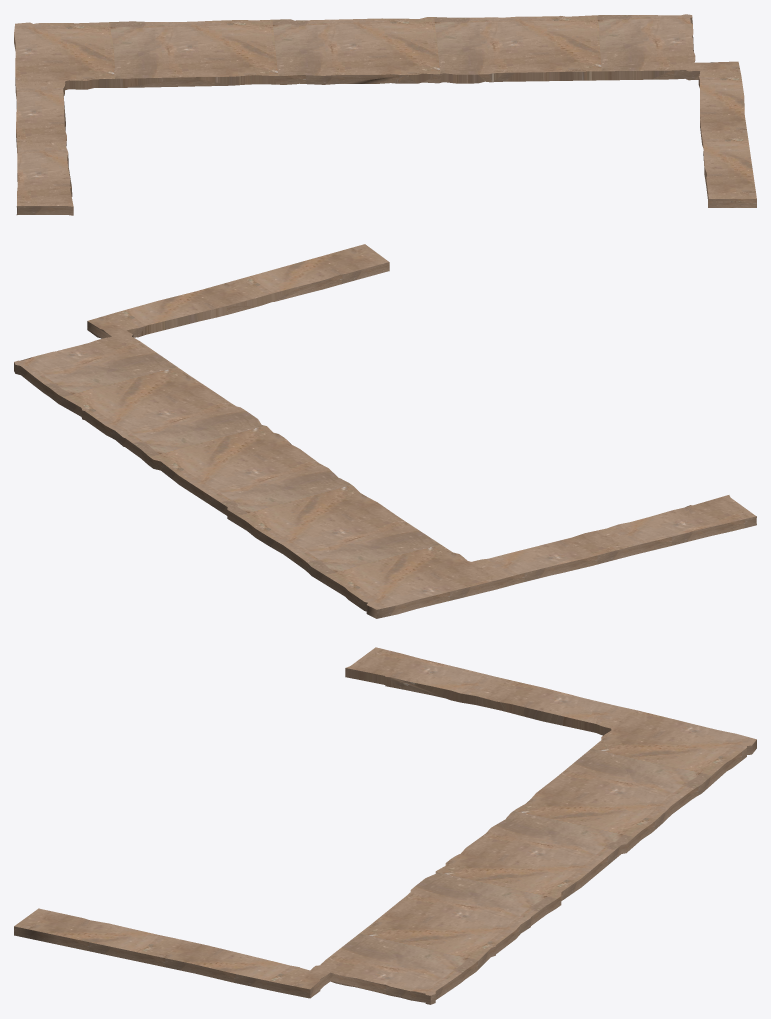
3 renders of one model, top to bottom at view 1: azimuth 30°, elevation 25°; view 2: azimuth 150°, elevation 25°; view 3: azimuth 270°, elevation 25°, orthographic.
Visible parts, largest first — view 1: Q5; view 2: Q5; view 3: Q5.
Part boxes in pixels (x1,y1,x2,y2): Q5: (14, 14, 756, 215); Q5: (14, 244, 756, 618); Q5: (14, 647, 756, 1004).
Bounding box in the file's own units: 1644 × 20 × 1480.
Materials: 1 (1 with a texture image).
